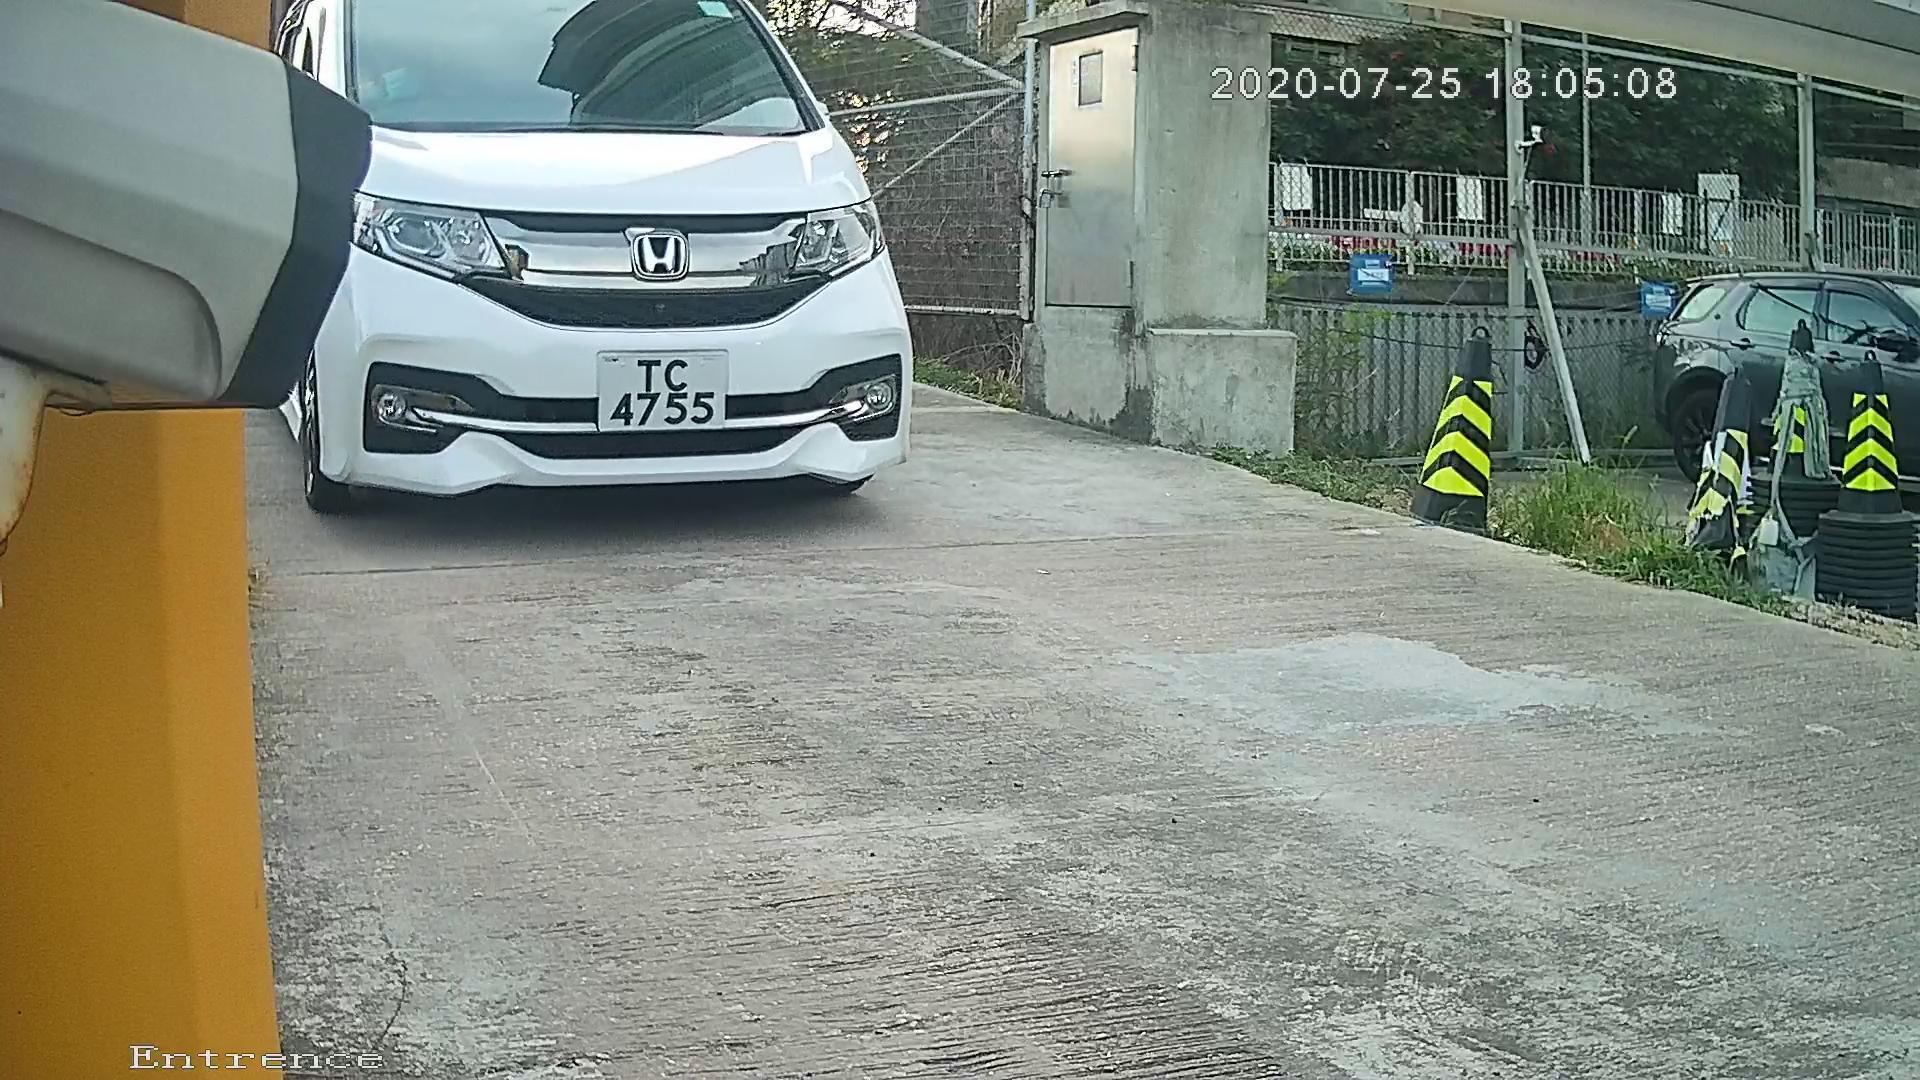privatecar: (223, 1, 1011, 550)
